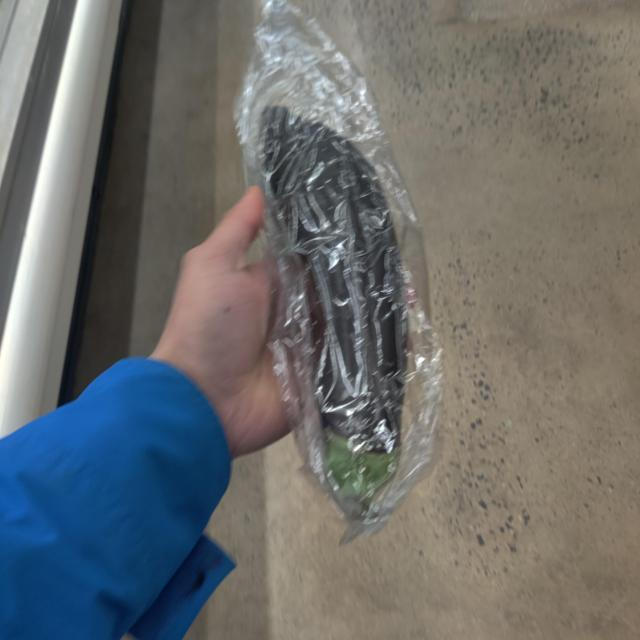Eggplant: (246, 94, 436, 538)
